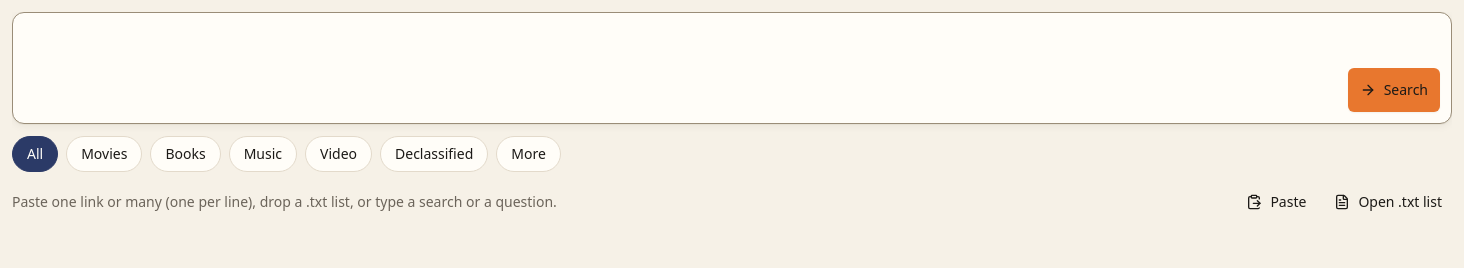
Scenario: PasteBox › shows a translated API error
Type "http://10.0.0.1/x" into the text box named "Search or paste links". click: (732, 68)
box: [12,12,1452,124]
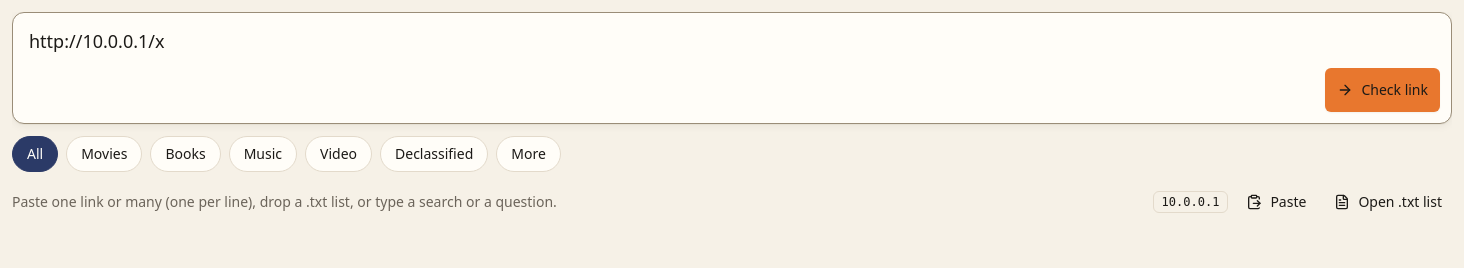
Click the button "Check link". click: click(1383, 90)
box: [1325,68,1440,112]
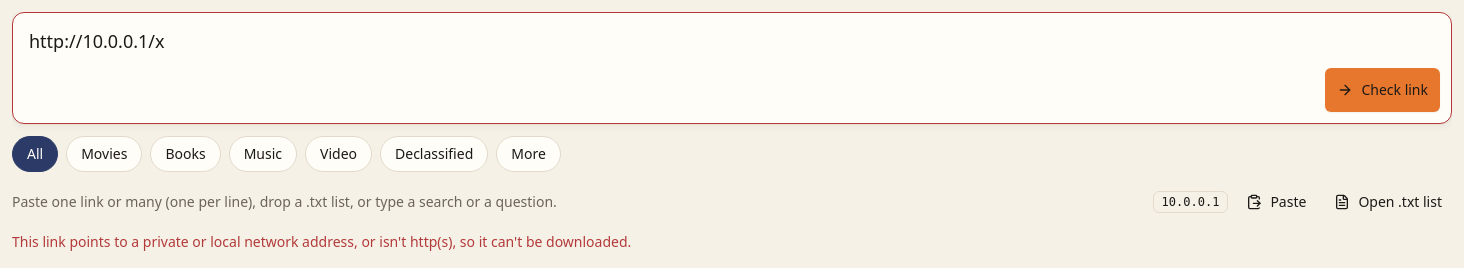
Expected: the message shows "private or local network", [12,232,631,251]
